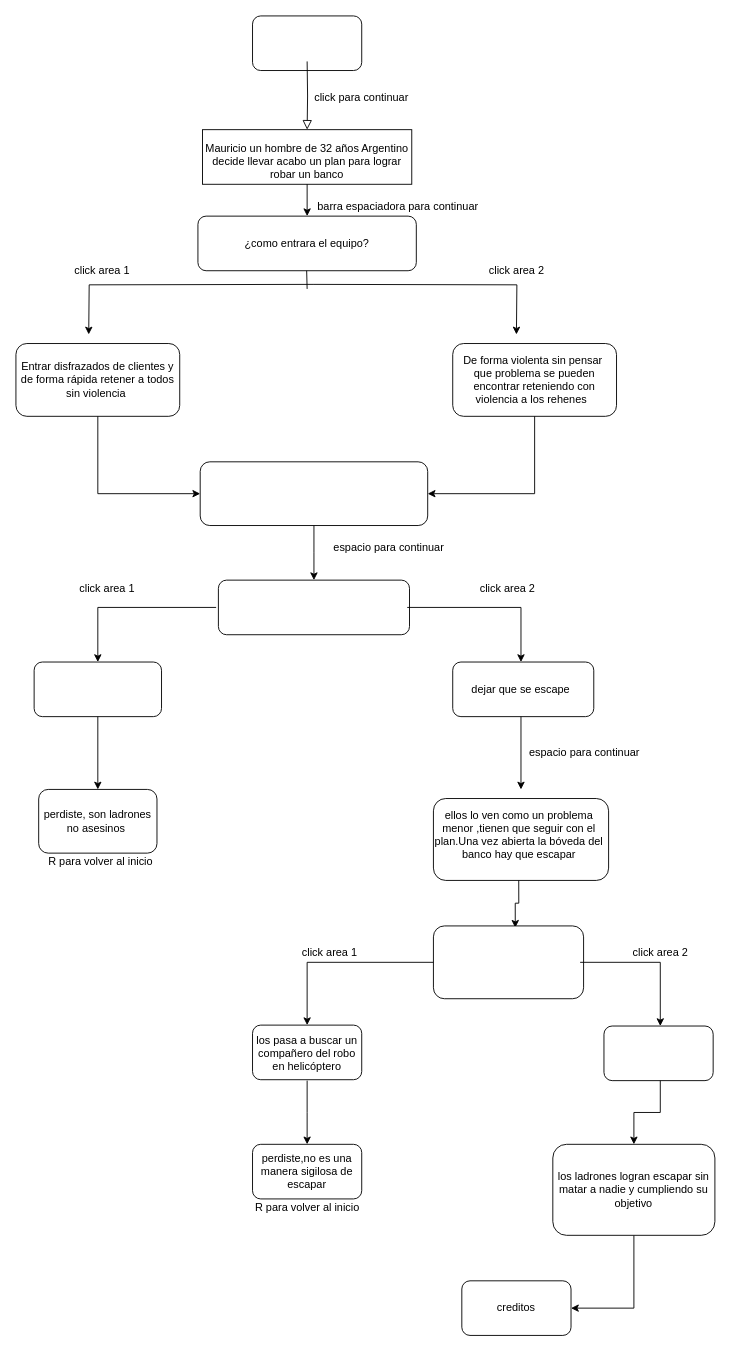
This 733x1351 diagram has some shape labels left out. The shapes that lost their labels are listed below. From the top down, each one's box as (x1, y1, x2, y2) in pixels, then its label:
(252, 15, 362, 71): El Robo
(199, 461, 428, 526): una vez adentro del banco el equipo toma a los rehenes y los amarra a todos
(217, 579, 410, 635): un rehén intenta escapar que hay que hacer?
(33, 661, 162, 717): dispararle
(433, 925, 584, 999): como escaparan?
(603, 1025, 713, 1081): escapan con un camión de basura en la parte trasera
